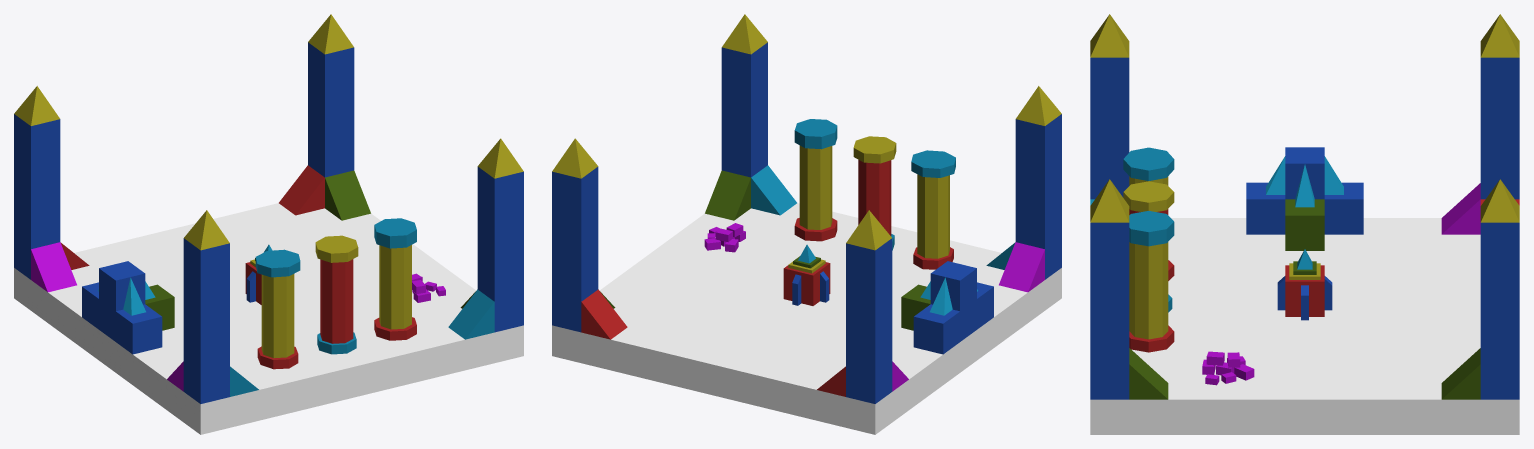
Rendered from basic_model.obj.
The picture shows the model from 3 angles, left to right: view 1: azimuth 30°, elevation 25°; view 2: azimuth 150°, elevation 25°; view 3: azimuth 270°, elevation 25°; orthographic projection. The views are drawn at different scales.
Size of the model in its own units: 11 by 7 by 11.
